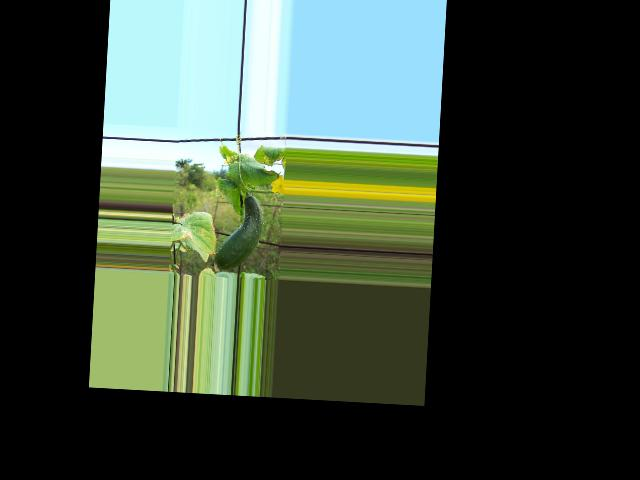cucumber: (213, 192, 264, 271)
